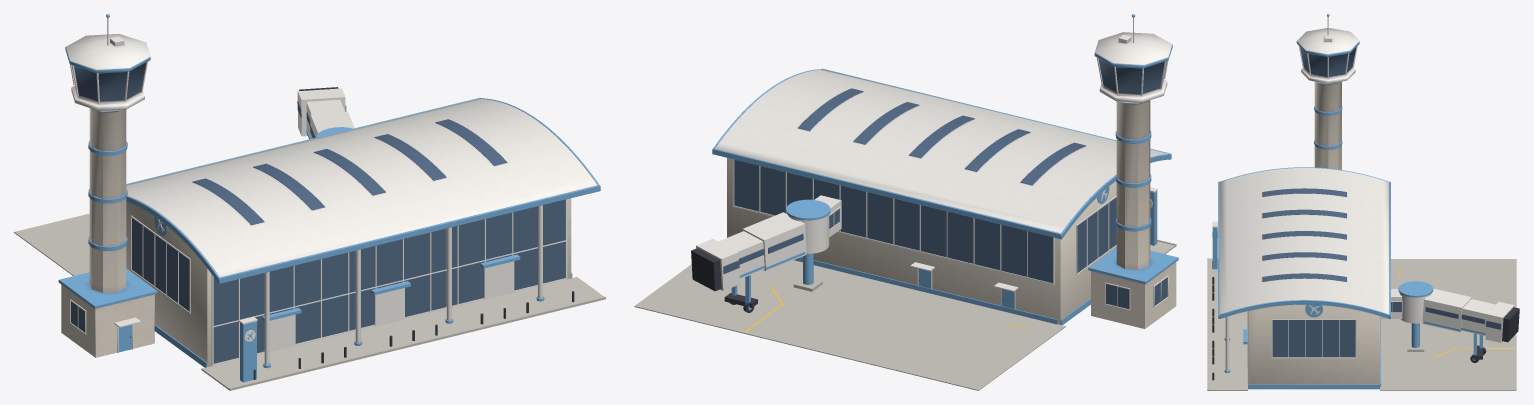
File: airport-terminal.glb
3 views of the same model, side by side, from view 1: azimuth 30°, elevation 25°; view 2: azimuth 150°, elevation 25°; view 3: azimuth 270°, elevation 25° (orthographic). The views are drawn at different scales.
Visible parts, largest first — view 1: airport-terminal_body, airport-terminal_facade, airport-terminal_details; view 2: airport-terminal_body, airport-terminal_details, airport-terminal_facade; view 3: airport-terminal_body, airport-terminal_details, airport-terminal_facade.
Boxes of the visible parts, x1,y1,x2,y2 form: airport-terminal_body: (58, 14, 600, 368); airport-terminal_facade: (130, 199, 605, 390); airport-terminal_details: (14, 61, 354, 352); airport-terminal_body: (712, 14, 1178, 328); airport-terminal_details: (634, 57, 1168, 390); airport-terminal_facade: (732, 159, 1176, 325); airport-terminal_body: (1218, 14, 1390, 384); airport-terminal_details: (1298, 46, 1519, 390); airport-terminal_facade: (1207, 221, 1380, 390).
Bounding box in the file's own units: 39.9 × 27.2 × 33.18.
13 materials, 1 textured.
